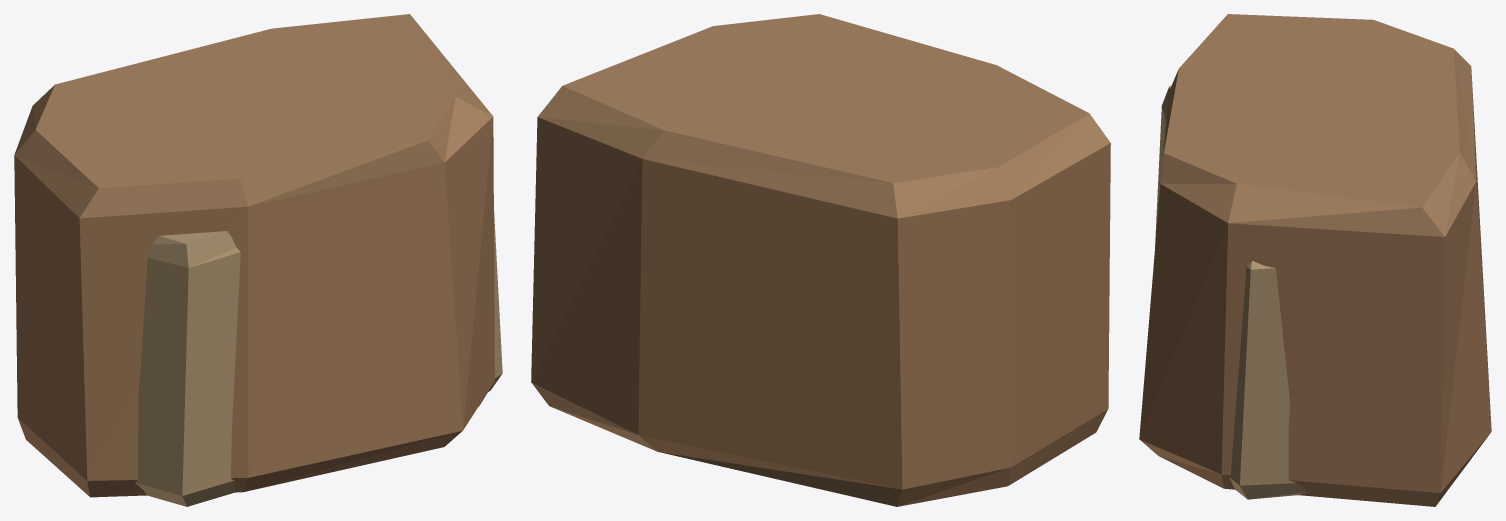
File: boulders.glb
3 views of the same model, side by side, from view 1: azimuth 30°, elevation 25°; view 2: azimuth 150°, elevation 25°; view 3: azimuth 270°, elevation 25° (orthographic). The views are drawn at different scales.
Parts seen in each view (by area): view 1: boulder_10, boulder_09; view 2: boulder_10; view 3: boulder_10, boulder_09.
Boxes of the visible parts, x1,y1,x2,y2 form: boulder_10: (14,14,494,497); boulder_09: (135,211,502,506); boulder_10: (531,14,1110,506); boulder_10: (1139,14,1491,506); boulder_09: (1155,86,1307,499).
Size of the model in its own units: 4 by 2.6 by 2.8.
